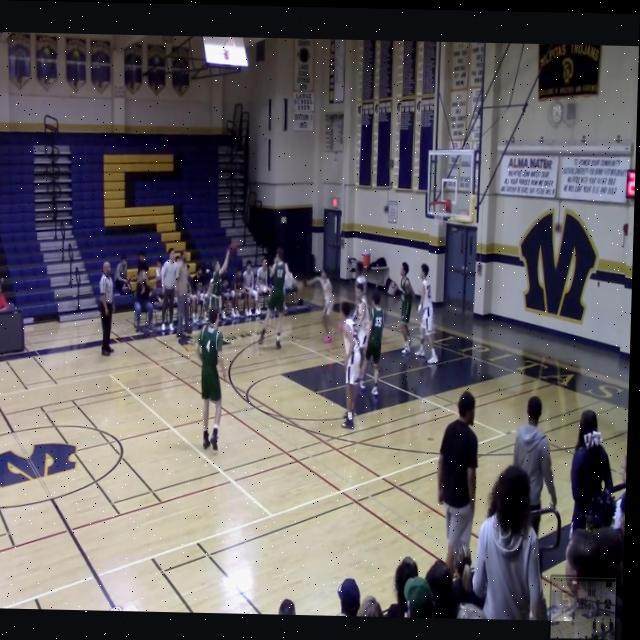basketball: (229, 241, 238, 255)
hoop: (429, 199, 448, 227)
